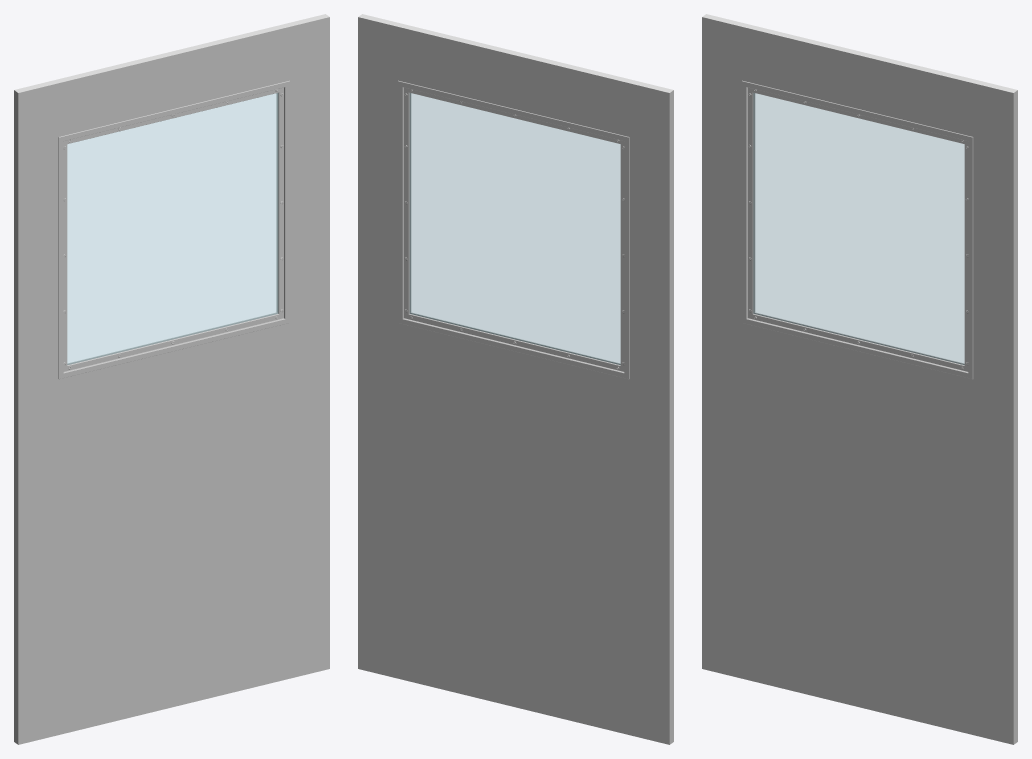
Rendered from door_windowed.gltf.
The picture shows the model from 3 angles, left to right: view 1: azimuth 30°, elevation 25°; view 2: azimuth 150°, elevation 25°; view 3: azimuth 330°, elevation 25°; orthographic projection.
Parts seen in each view (by area): view 1: 3DGeom-1, 3DGeom-3, 3DGeom-4; view 2: 3DGeom-1, 3DGeom-3, 3DGeom-4; view 3: 3DGeom-1, 3DGeom-3, 3DGeom-4.
Boxes of the visible parts, x1,y1,x2,y2 form: 3DGeom-1: (14,17,329,744); 3DGeom-3: (68,93,277,364); 3DGeom-4: (14,14,329,92); 3DGeom-1: (358,17,673,744); 3DGeom-3: (410,93,619,364); 3DGeom-4: (358,14,673,92); 3DGeom-1: (702,17,1017,744); 3DGeom-3: (754,93,963,364); 3DGeom-4: (702,14,1017,92).
Bounding box in the file's own units: 1.22 × 2.44 × 0.0349.
